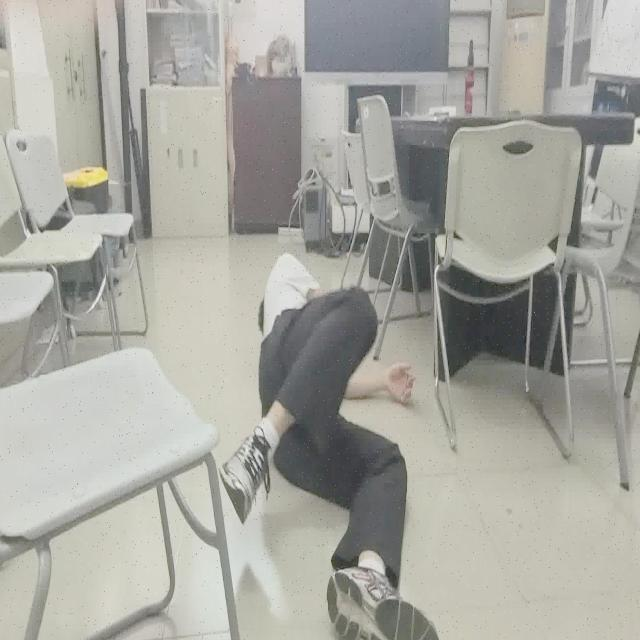fall: (218, 250, 440, 640)
